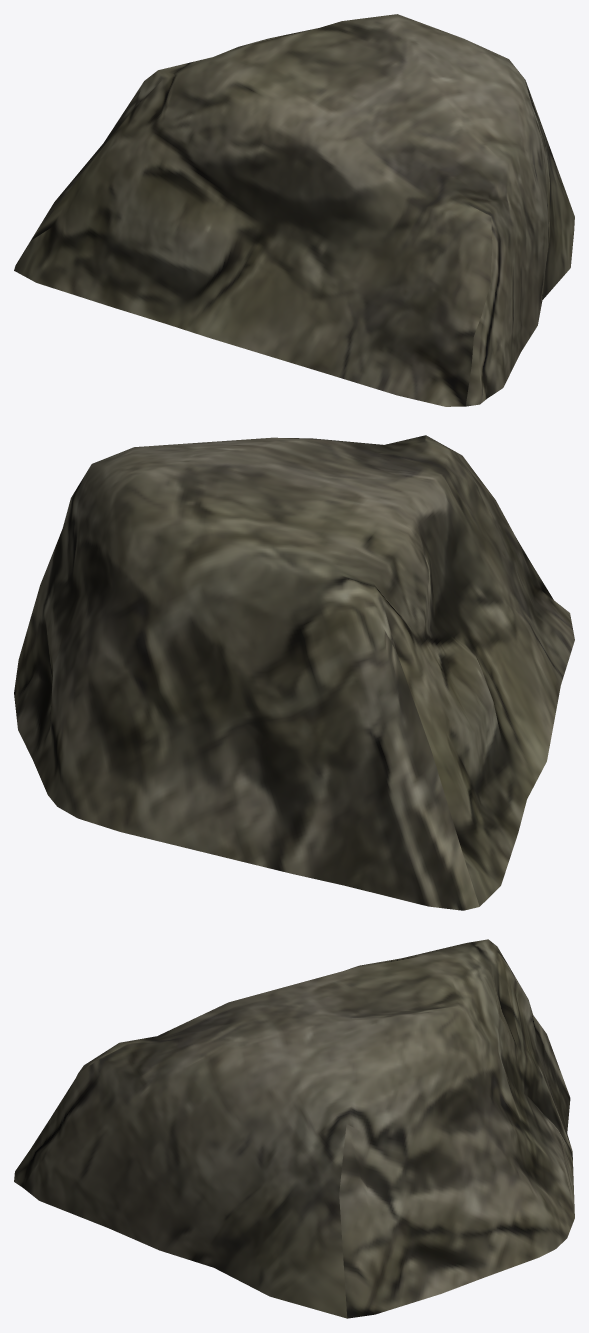
File: MEP_Cliff_10.fbx
3 renders of one model, top to bottom at view 1: azimuth 30°, elevation 25°; view 2: azimuth 150°, elevation 25°; view 3: azimuth 270°, elevation 25°, orthographic. The views are drawn at different scales.
Visible parts, largest first — view 1: MEP_Desert_Cliff_10; view 2: MEP_Desert_Cliff_10; view 3: MEP_Desert_Cliff_10.
Boxes of the visible parts, x1,y1,x2,y2 form: MEP_Desert_Cliff_10: (14, 14, 574, 406); MEP_Desert_Cliff_10: (14, 435, 574, 910); MEP_Desert_Cliff_10: (14, 939, 574, 1318).
Size of what is drawn, in the model's own units: 219 by 101 by 223.
Materials: 1 (1 with a texture image).
